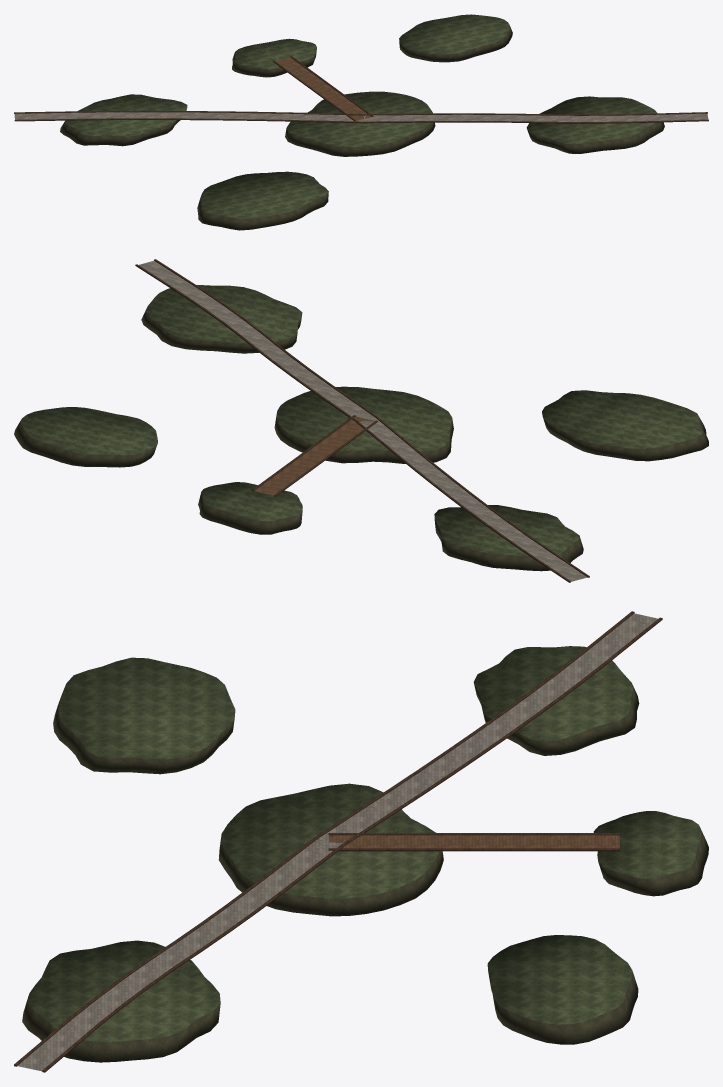
The model's file is 07_WyspaKirke_teren.glb.
3 views of the same model, one above another, from view 1: azimuth 30°, elevation 25°; view 2: azimuth 150°, elevation 25°; view 3: azimuth 270°, elevation 25° (orthographic). The views are drawn at different scales.
Parts seen in each view (by area): view 1: islet1, islet2, islet4, islet3, islet0, path_0.006, path_1.001, islet5, path_2.001; view 2: islet1, islet2, islet4, islet3, islet0, islet5, path_0.006, path_1.001, path_2.001; view 3: islet2, islet1, islet4, islet3, islet0, islet5, path_1.001, path_0.006, path_2.001.
Part boxes in pixels (left/top/right/bottom): islet1: left=197, top=171, right=328, bottom=230; islet2: left=285, top=91, right=435, bottom=156; islet4: left=526, top=96, right=664, bottom=153; islet3: left=399, top=14, right=512, bottom=62; islet0: left=60, top=94, right=187, bottom=146; path_0.006: left=14, top=112, right=363, bottom=121; path_1.001: left=363, top=113, right=708, bottom=121; islet5: left=232, top=38, right=316, bottom=77; path_2.001: left=275, top=57, right=371, bottom=120; islet1: left=542, top=390, right=708, bottom=461; islet2: left=274, top=386, right=453, bottom=463; islet4: left=141, top=285, right=302, bottom=353; islet3: left=14, top=407, right=157, bottom=467; islet0: left=434, top=505, right=583, bottom=571; islet5: left=198, top=482, right=302, bottom=534; path_0.006: left=359, top=417, right=587, bottom=581; path_1.001: left=139, top=260, right=373, bottom=418; path_2.001: left=254, top=416, right=374, bottom=495; islet2: left=218, top=783, right=443, bottom=916; islet1: left=53, top=657, right=235, bottom=774; islet4: left=22, top=940, right=220, bottom=1062; islet3: left=487, top=935, right=638, bottom=1044; islet0: left=473, top=646, right=639, bottom=755; islet5: left=593, top=811, right=708, bottom=896; path_1.001: left=17, top=839, right=340, bottom=1071; path_0.006: left=317, top=613, right=657, bottom=844; path_2.001: left=329, top=835, right=619, bottom=848.
Size of what is drawn, in the model's own units: 240 by 4.63 by 153.
Materials: 5 (5 with a texture image).
